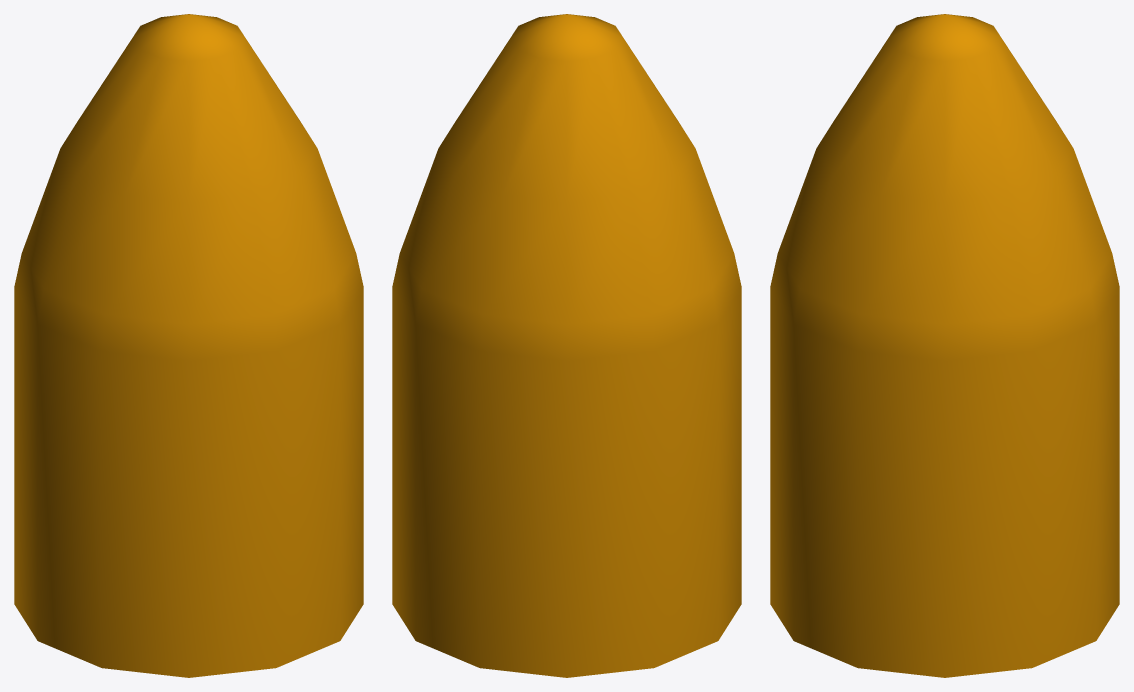
Rendered from Bullet.fbx.
3 renders of one model, left to right at view 1: azimuth 30°, elevation 25°; view 2: azimuth 150°, elevation 25°; view 3: azimuth 270°, elevation 25°, orthographic.
Visible parts, largest first — view 1: Bullet; view 2: Bullet; view 3: Bullet.
Part boxes in pixels (x1,y1,x2,y2): Bullet: [14, 14, 363, 677]; Bullet: [392, 14, 741, 677]; Bullet: [770, 14, 1119, 677].
Bounding box in the file's own units: 200 × 372 × 200.
